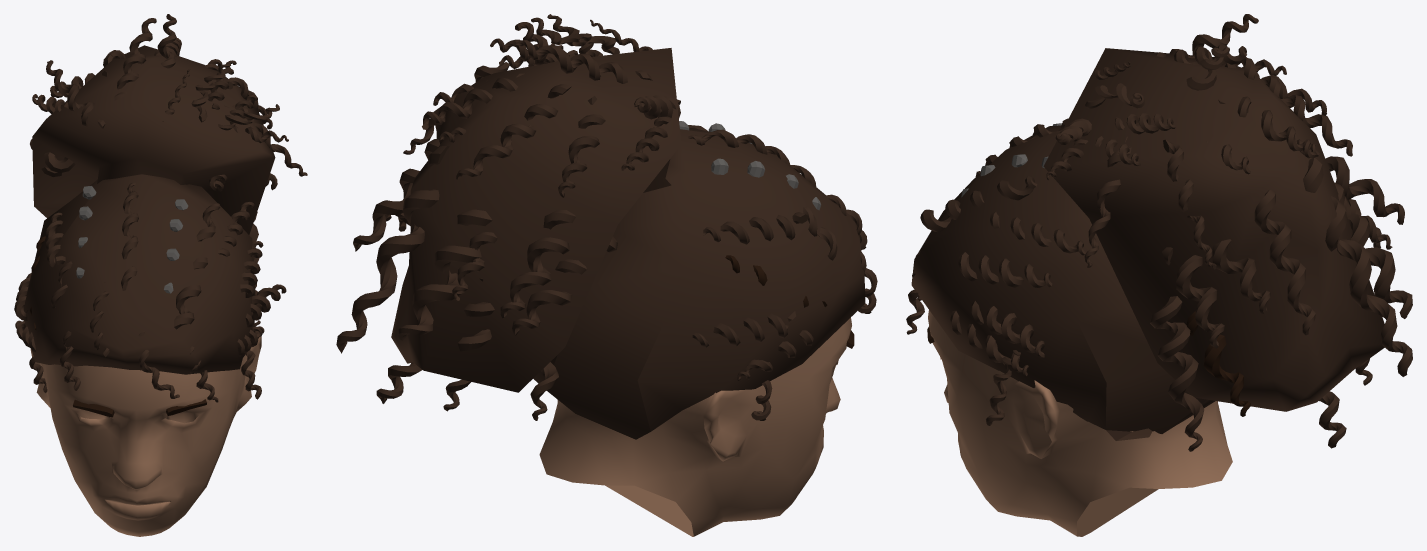
The model's file is BH_Head.fbx.
The picture shows the model from 3 angles, left to right: view 1: azimuth 30°, elevation 25°; view 2: azimuth 150°, elevation 25°; view 3: azimuth 270°, elevation 25°; orthographic projection. The views are drawn at different scales.
Parts seen in each view (by area): view 1: BH_Head; view 2: BH_Head; view 3: BH_Head.
Boxes of the visible parts, bbox=[...] form: BH_Head: bbox=[14, 14, 307, 536]; BH_Head: bbox=[336, 14, 877, 536]; BH_Head: bbox=[906, 14, 1412, 536].
Size of the model in its own units: 23.31 by 31.81 by 27.37.
